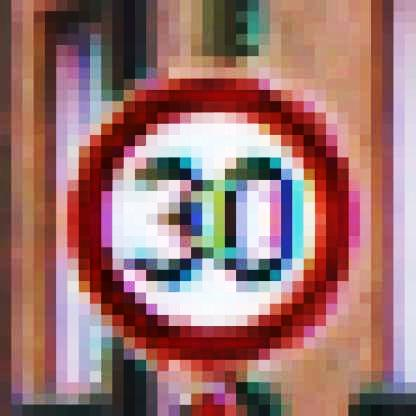Speed Limit -30-: (62, 65, 369, 365)
